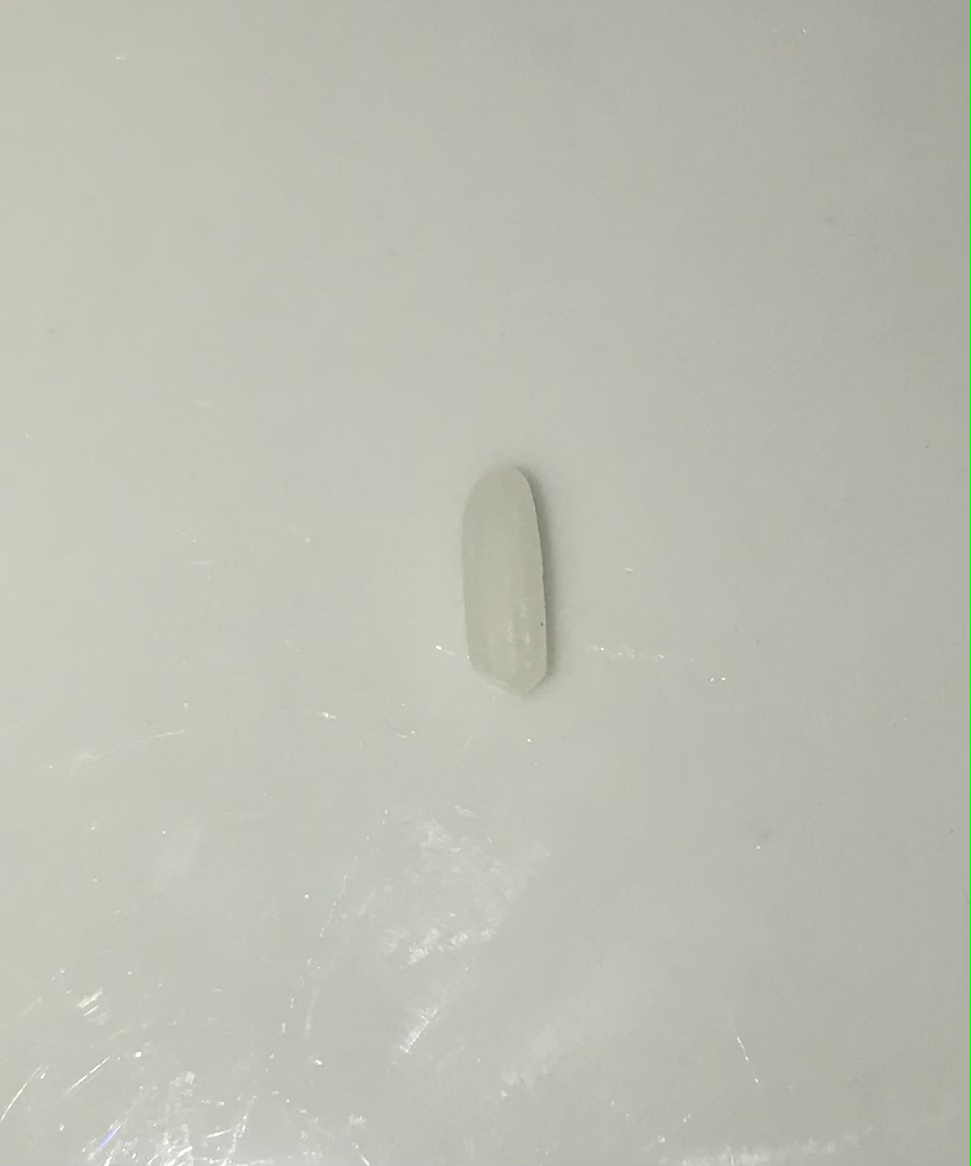Gao Thom Go Cong: (432, 452, 579, 695)
